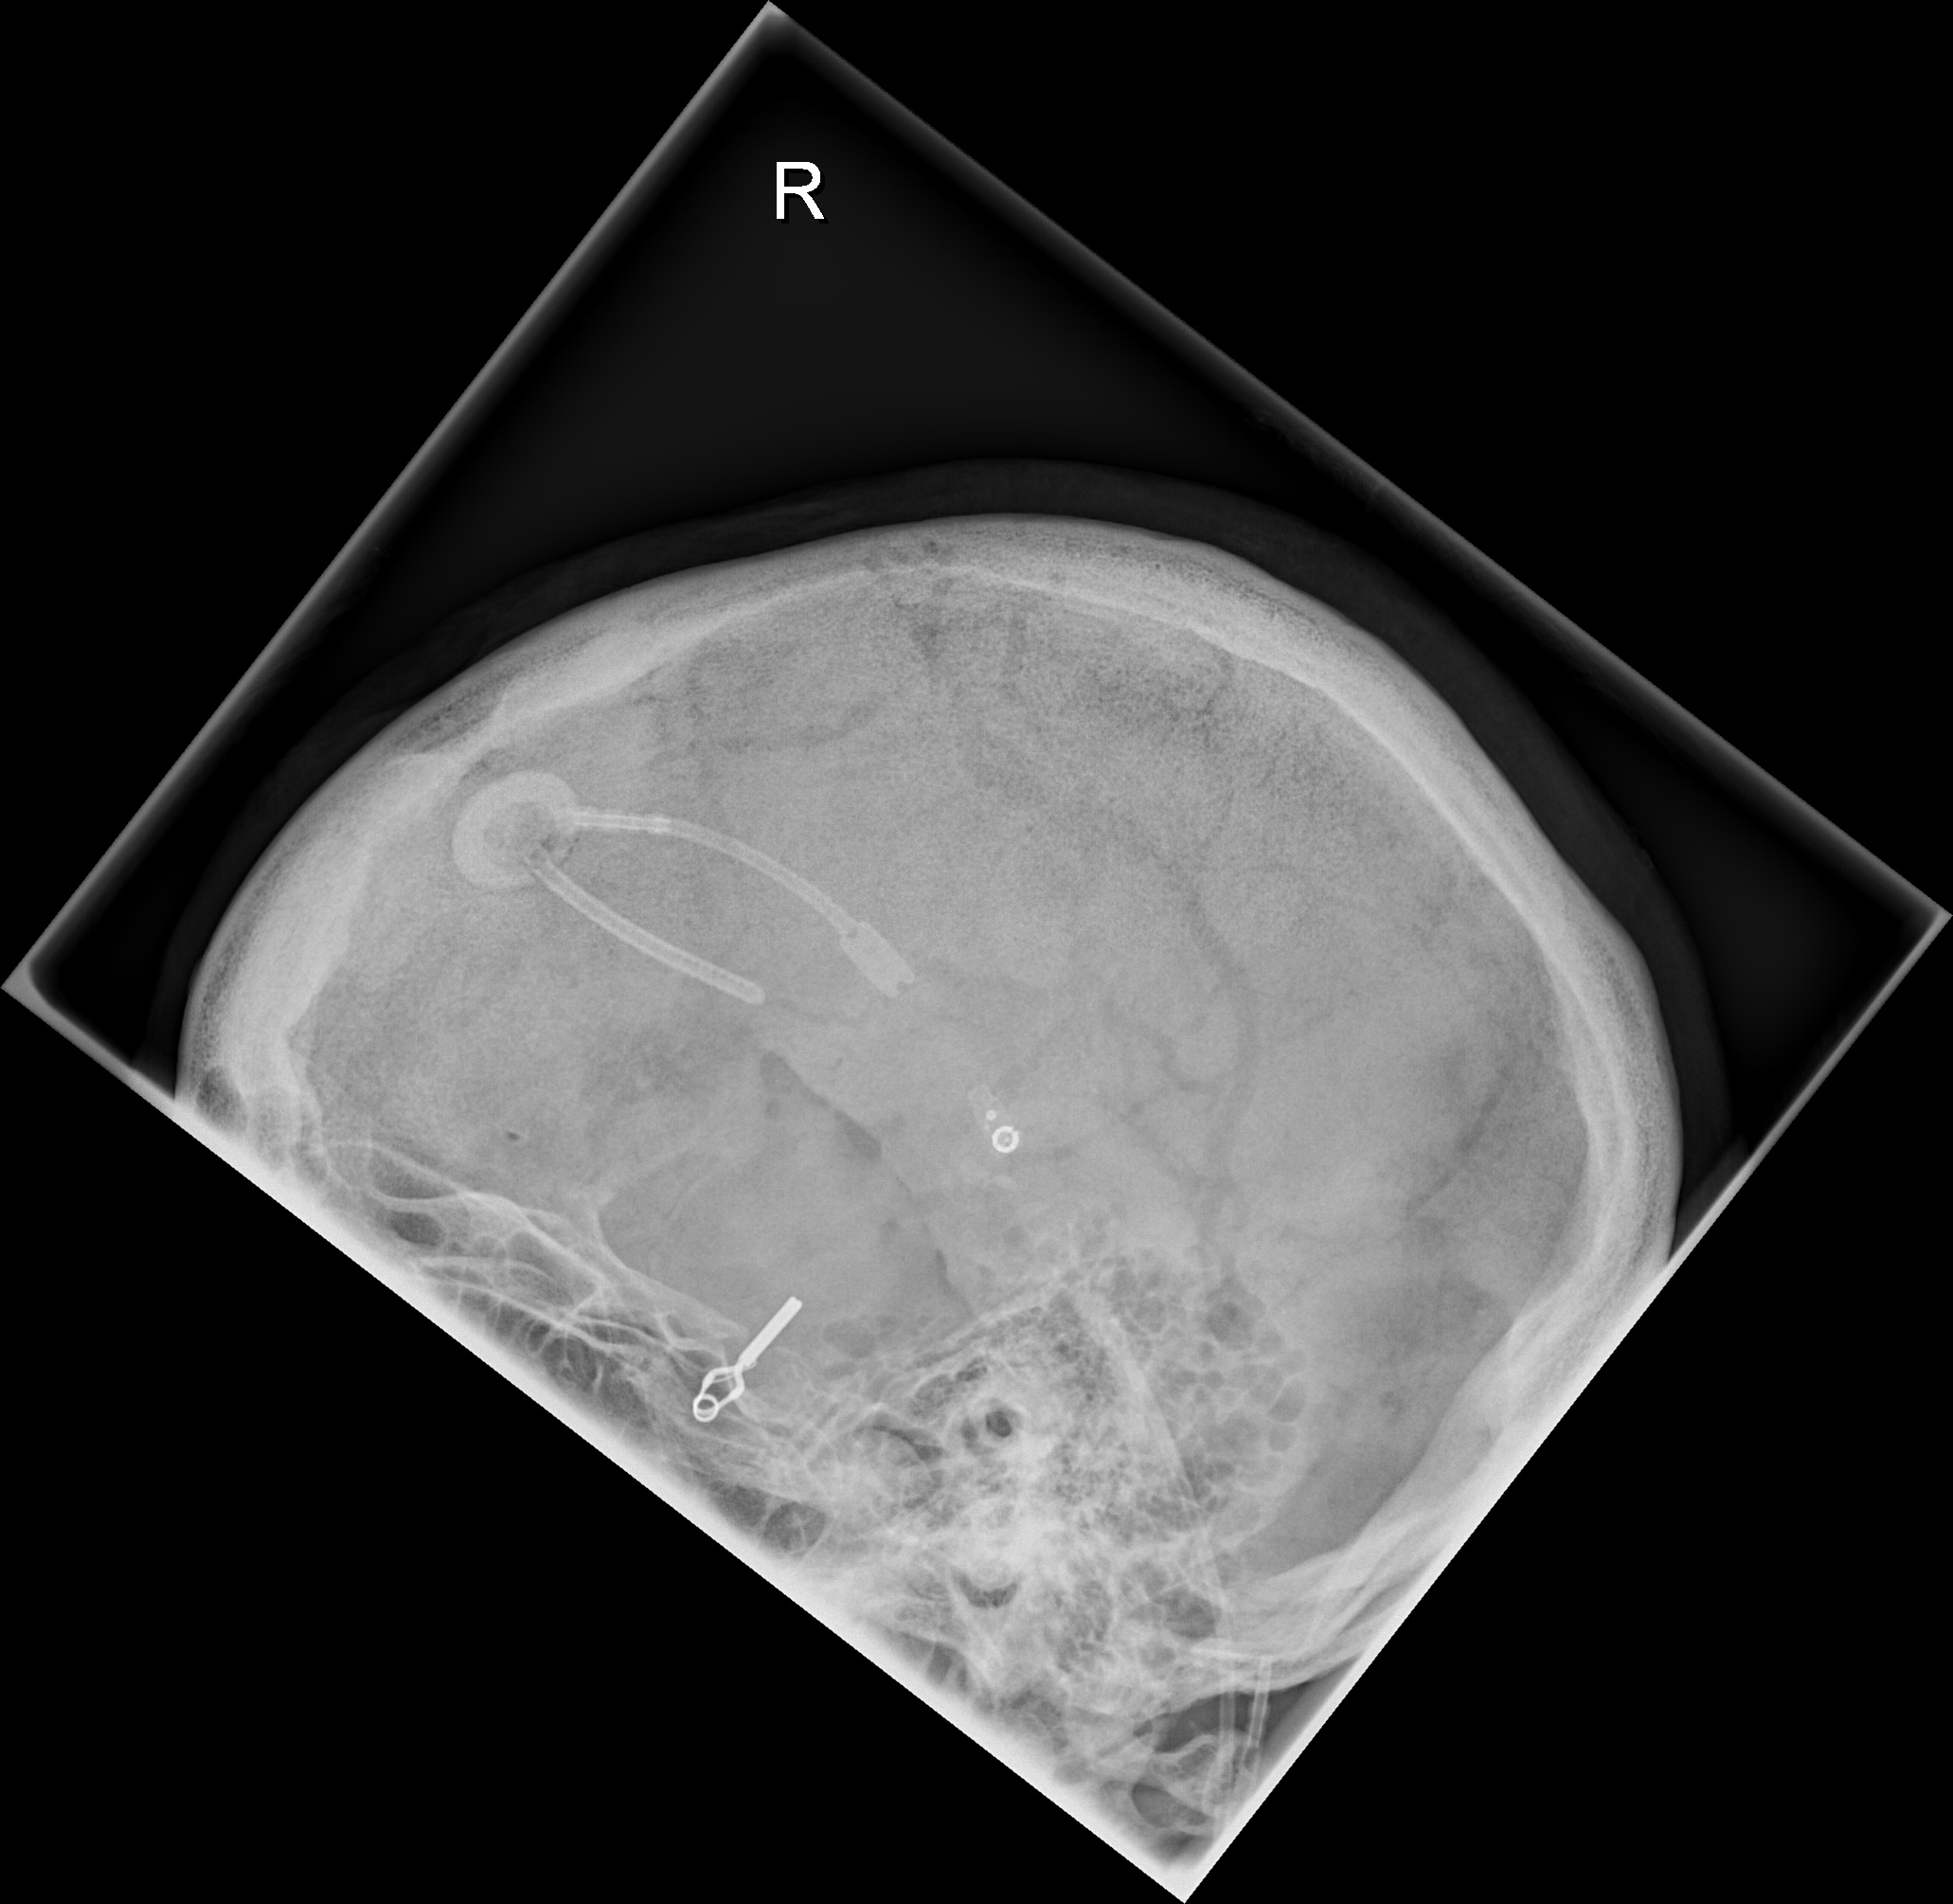Codman Hakim: (963, 1090, 1034, 1173)
